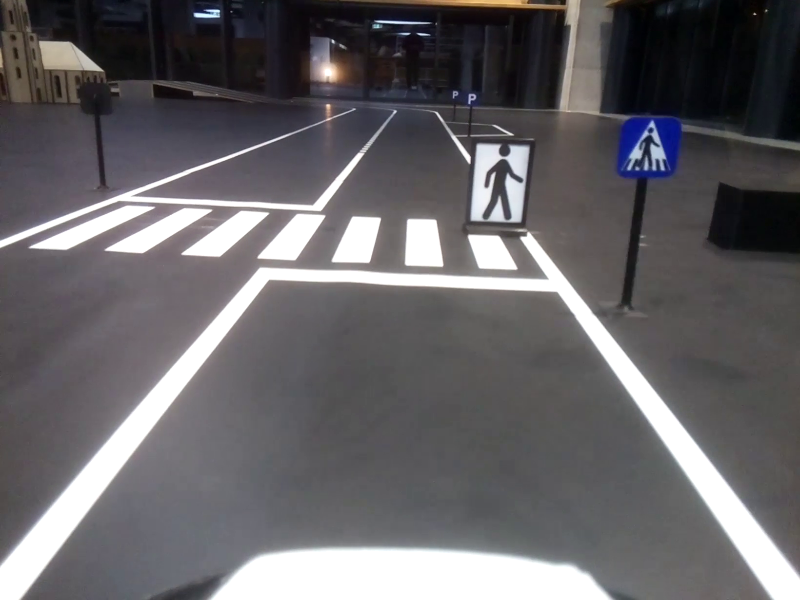pedestrians: (617, 116, 679, 177)
